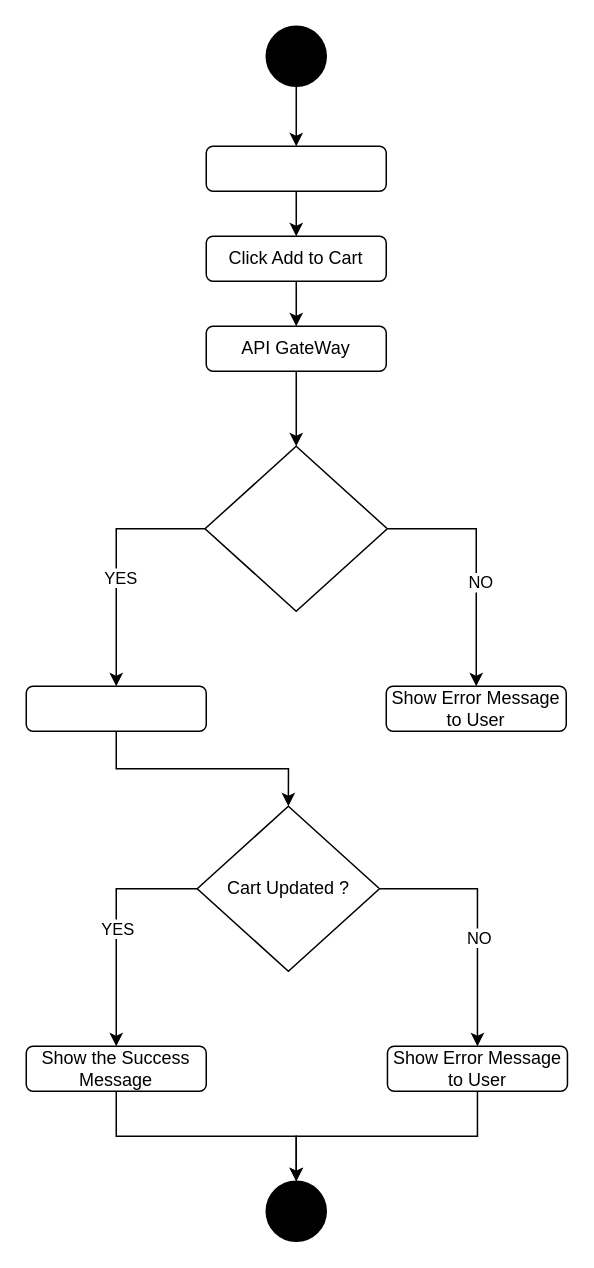
This 594x1268 diagram has some shape labels left out. The centre of each missing label's shape, as x and y in pixels:
"Product Available ?" belongs at (295,528).
"Select Product" belongs at (295,168).
"Update Cart API" belongs at (115,708).
